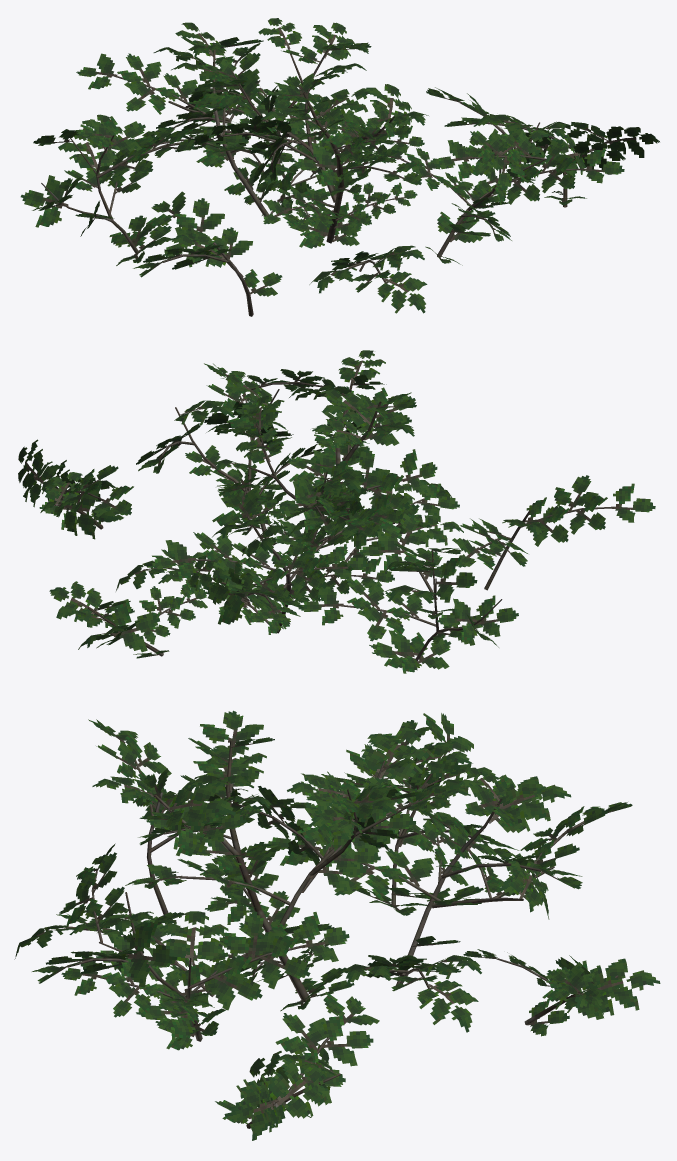
File: Bush1-1.fbx
The picture shows the model from 3 angles, top to bottom: view 1: azimuth 30°, elevation 25°; view 2: azimuth 150°, elevation 25°; view 3: azimuth 270°, elevation 25°; orthographic projection. The views are drawn at different scales.
Visible parts, largest first — view 1: Bush1-1_LOD0; view 2: Bush1-1_LOD0; view 3: Bush1-1_LOD0.
Part boxes in pixels (x1,y1,x2,y2): Bush1-1_LOD0: (20, 18, 659, 316); Bush1-1_LOD0: (18, 350, 655, 673); Bush1-1_LOD0: (14, 710, 660, 1140).
Size of what is drawn, in the model's own units: 2.02 by 1.59 by 0.6602.
